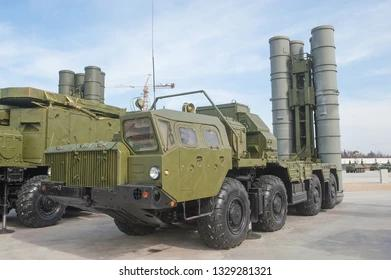MIL_SAM_TEL: (42, 27, 350, 249)
